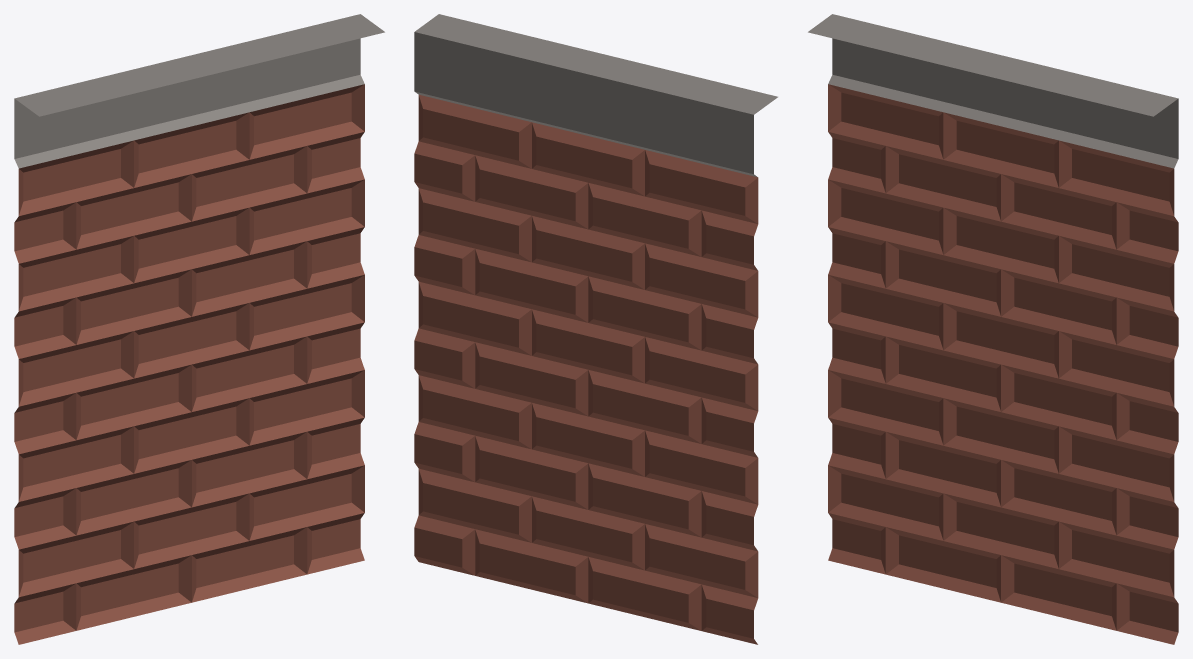
Rendered from Brick_wall.fbx.
3 views of the same model, side by side, from view 1: azimuth 30°, elevation 25°; view 2: azimuth 150°, elevation 25°; view 3: azimuth 330°, elevation 25° (orthographic).
Visible parts, largest first — view 1: Wall_1.002; view 2: Wall_1.002; view 3: Wall_1.002.
Part boxes in pixels (bbox=[...]): Wall_1.002: bbox=[14, 14, 384, 644]; Wall_1.002: bbox=[414, 14, 777, 644]; Wall_1.002: bbox=[808, 14, 1178, 644].
Size of the model in its own units: 200 by 300 by 25.
